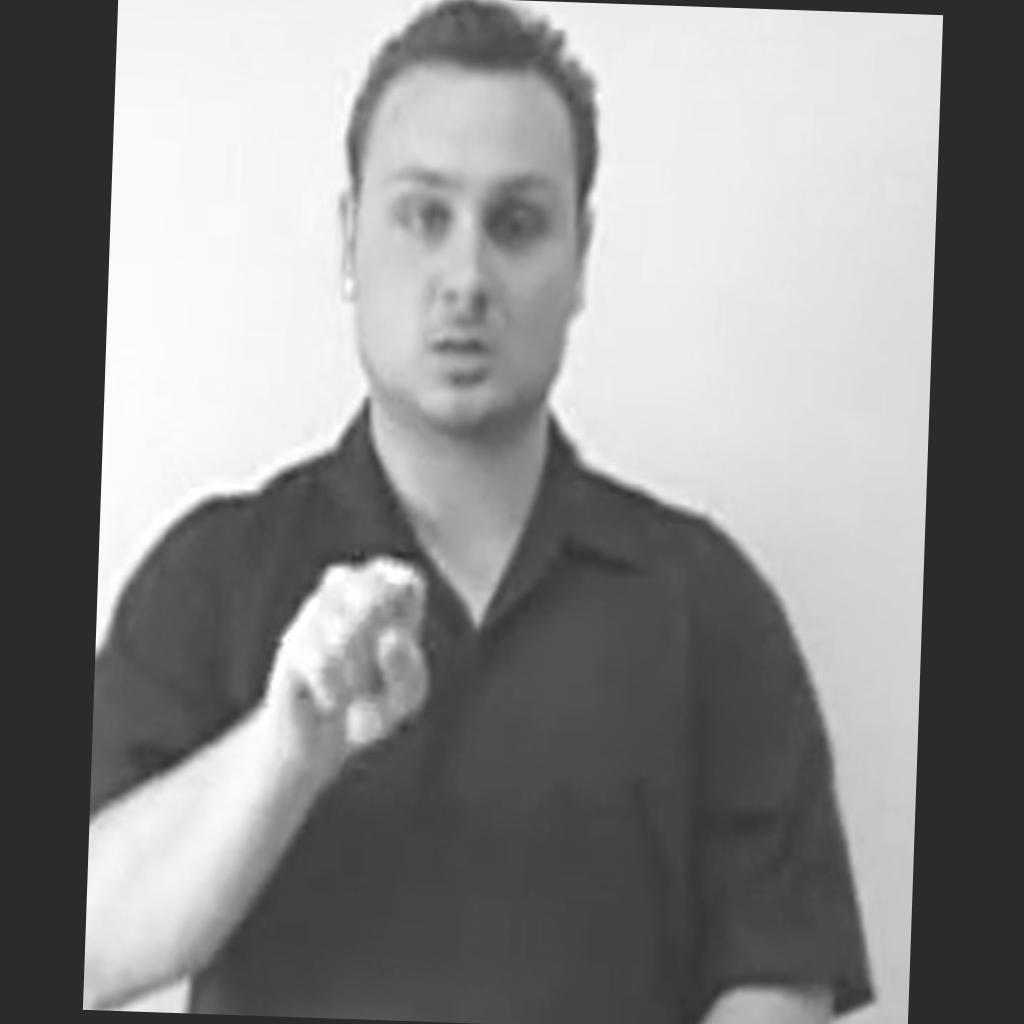yes: (266, 552, 434, 770)
